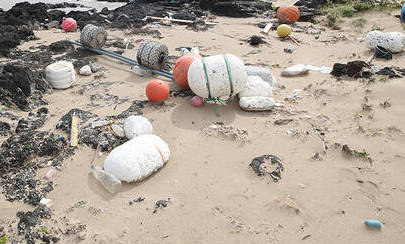buoy: (97, 132, 171, 183), (186, 51, 246, 101), (41, 58, 76, 89), (364, 26, 404, 53)
